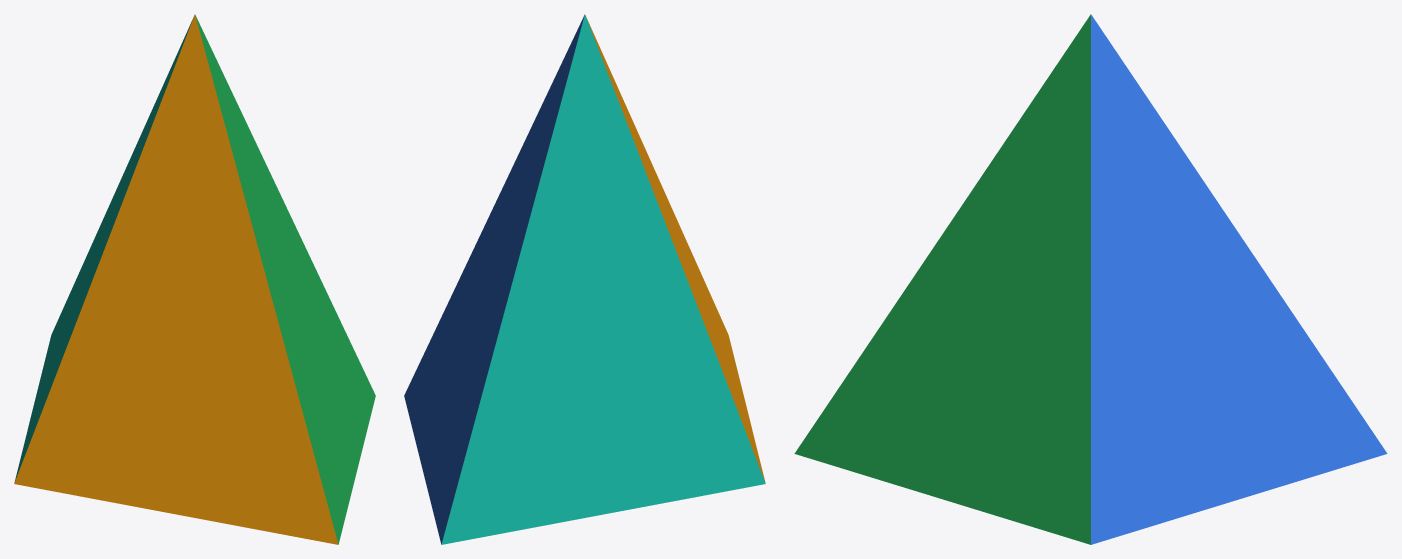
Rendered from limas-belah-ketupat.glb.
The picture shows the model from 3 angles, left to right: view 1: azimuth 30°, elevation 25°; view 2: azimuth 150°, elevation 25°; view 3: azimuth 270°, elevation 25°; orthographic projection. The views are drawn at different scales.
Visible parts, largest first — view 1: tegak3, tegak2, tegak4; view 2: tegak4, tegak1, tegak3; view 3: tegak1, tegak2.
Boxes of the visible parts, <box> form: tegak3: <box>14,14,338,544</box>; tegak2: <box>195,15,375,544</box>; tegak4: <box>14,17,193,482</box>; tegak4: <box>441,14,765,544</box>; tegak1: <box>404,15,584,544</box>; tegak3: <box>586,17,765,482</box>; tegak1: <box>1091,14,1387,544</box>; tegak2: <box>794,14,1090,544</box>.
Bounding box in the file's own units: 1.6 × 1.8 × 2.2.
